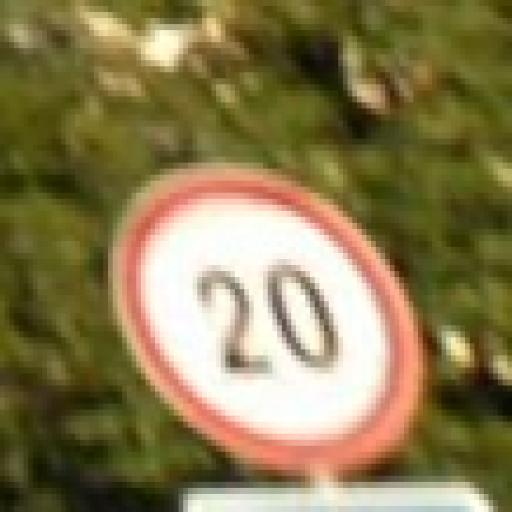traffic_sign: (114, 158, 424, 477)
